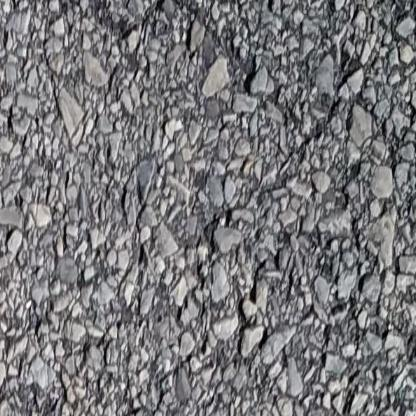Cracks: (389, 319, 416, 362)
